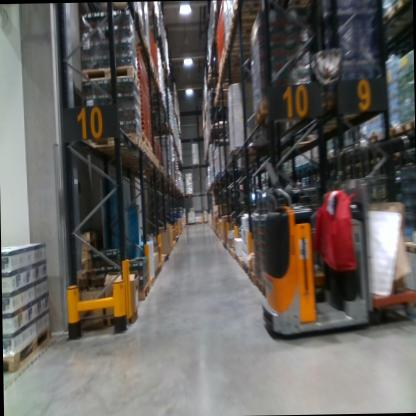pallet: (71, 56, 142, 94), (68, 123, 143, 156), (3, 330, 55, 377), (100, 308, 143, 333), (117, 281, 150, 302), (399, 115, 414, 136), (394, 0, 412, 17)
pallet_truck: (254, 130, 416, 353)
